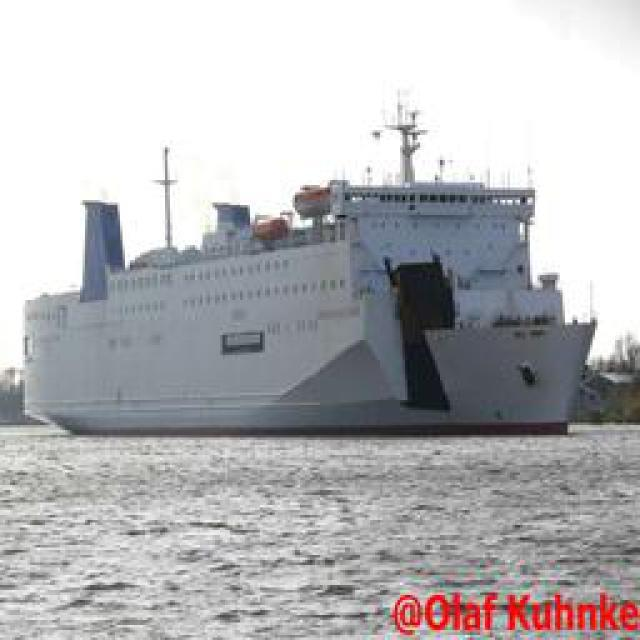Ship: (25, 151, 590, 436)
